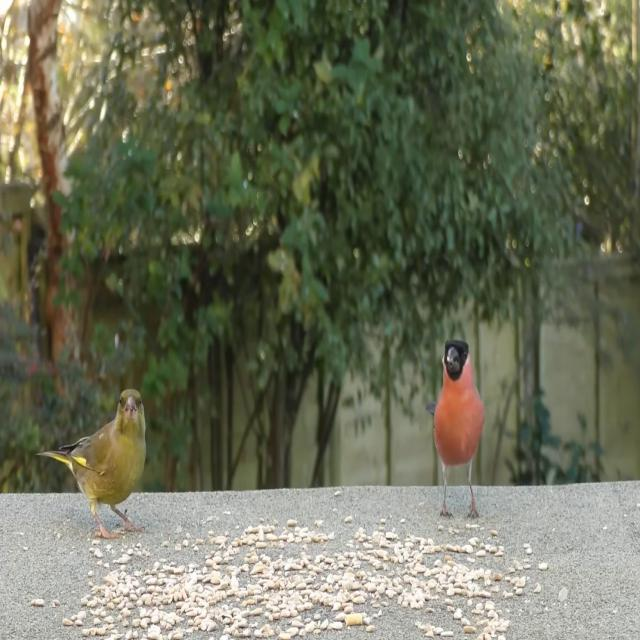beak: (444, 346, 460, 373), (122, 396, 138, 423)
bird: (43, 382, 148, 546), (431, 335, 486, 528)
